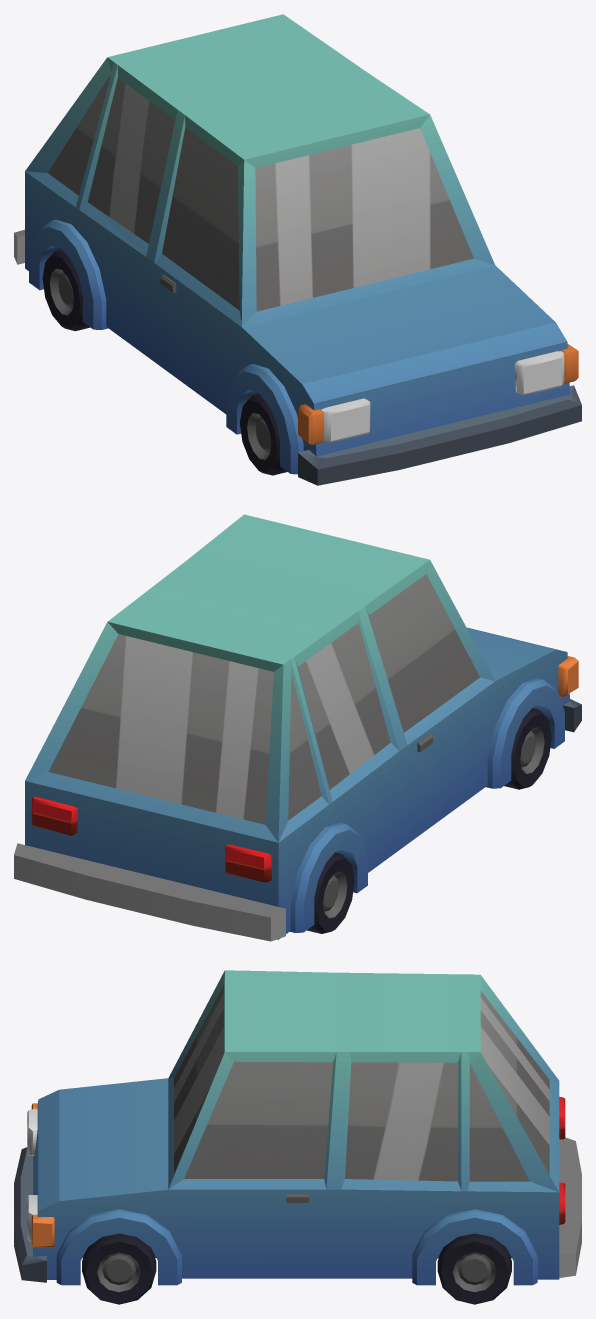
The model's file is Car_1_1.glb.
The picture shows the model from 3 angles, top to bottom: view 1: azimuth 30°, elevation 25°; view 2: azimuth 150°, elevation 25°; view 3: azimuth 270°, elevation 25°; orthographic projection. The views are drawn at different scales.
Parts seen in each view (by area): view 1: Car_1_1, Wheel_Br, Wheel_Fr; view 2: Car_1_1, Wheel_Fr, Wheel_Br; view 3: Car_1_1, Wheel_Fl, Wheel_Bl.
Boxes of the visible parts, bbox=[...] form: Car_1_1: bbox=[14, 14, 581, 485]; Wheel_Br: bbox=[42, 249, 89, 331]; Wheel_Fr: bbox=[240, 394, 287, 475]; Car_1_1: bbox=[14, 514, 581, 941]; Wheel_Fr: bbox=[504, 708, 551, 789]; Wheel_Br: bbox=[307, 852, 354, 933]; Car_1_1: bbox=[14, 970, 581, 1285]; Wheel_Fl: bbox=[82, 1233, 156, 1304]; Wheel_Bl: bbox=[437, 1233, 511, 1304].
Size of the model in its own units: 1.05 by 0.9433 by 2.07.
Materials: 4 (4 with a texture image).
